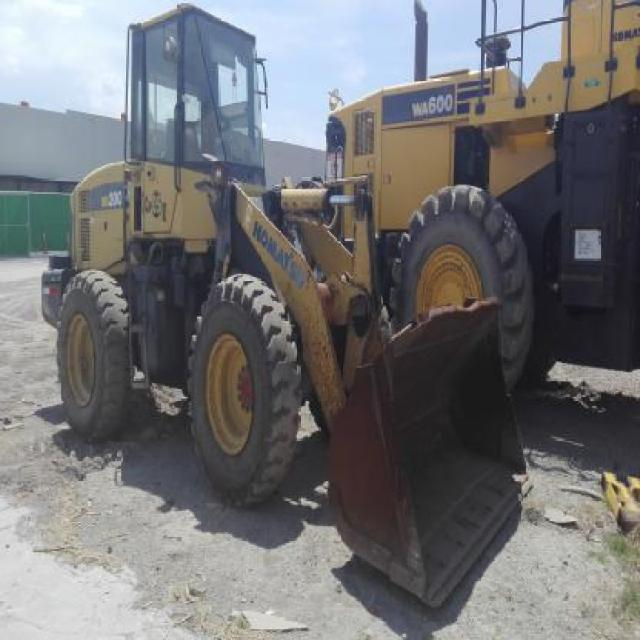buldozerpayloadergrader: (35, 0, 535, 612)
